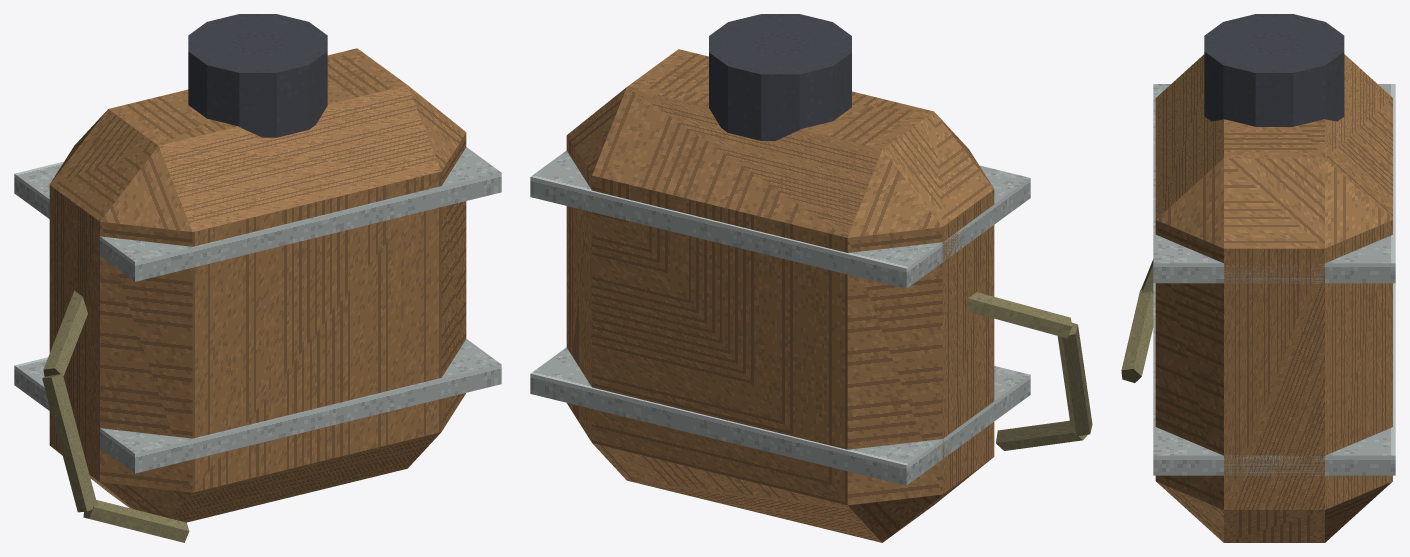
Rendered from canteen_wood.glb.
3 views of the same model, side by side, from view 1: azimuth 30°, elevation 25°; view 2: azimuth 150°, elevation 25°; view 3: azimuth 270°, elevation 25° (orthographic). The views are drawn at different scales.
Visible parts, largest first — view 1: block_flattened flask, block_metal hoop (×2), block_screw cap, block_carry strap 1, block_carry strap 2, block_carry strap 0; view 2: block_flattened flask, block_metal hoop (×2), block_screw cap, block_carry strap 1, block_carry strap 0, block_carry strap 2; view 3: block_flattened flask, block_screw cap, block_metal hoop (×2), block_carry strap 2.
Boxes of the visible parts, left/top/right/bottom form: block_flattened flask: left=49, top=48, right=466, bottom=522; block_metal hoop (×2): left=14, top=147, right=501, bottom=473; block_screw cap: left=188, top=14, right=327, bottom=137; block_carry strap 1: left=42, top=373, right=97, bottom=512; block_carry strap 2: left=83, top=500, right=189, bottom=542; block_carry strap 0: left=43, top=290, right=87, bottom=376; block_flattened flask: left=566, top=49, right=994, bottom=542; block_metal hoop (×2): left=530, top=150, right=1030, bottom=485; block_screw cap: left=709, top=14, right=851, bottom=140; block_carry strap 1: left=1057, top=322, right=1092, bottom=436; block_carry strap 0: left=968, top=292, right=1071, bottom=338; block_carry strap 2: left=996, top=420, right=1087, bottom=450; block_flattened flask: left=1155, top=54, right=1392, bottom=542; block_screw cap: left=1204, top=14, right=1344, bottom=126; block_metal hoop (×2): left=1153, top=84, right=1395, bottom=475; block_carry strap 2: left=1121, top=289, right=1153, bottom=382.
Size of the model in its own units: 0.2651 by 0.2546 by 0.1442.
Materials: 1 (1 with a texture image).
